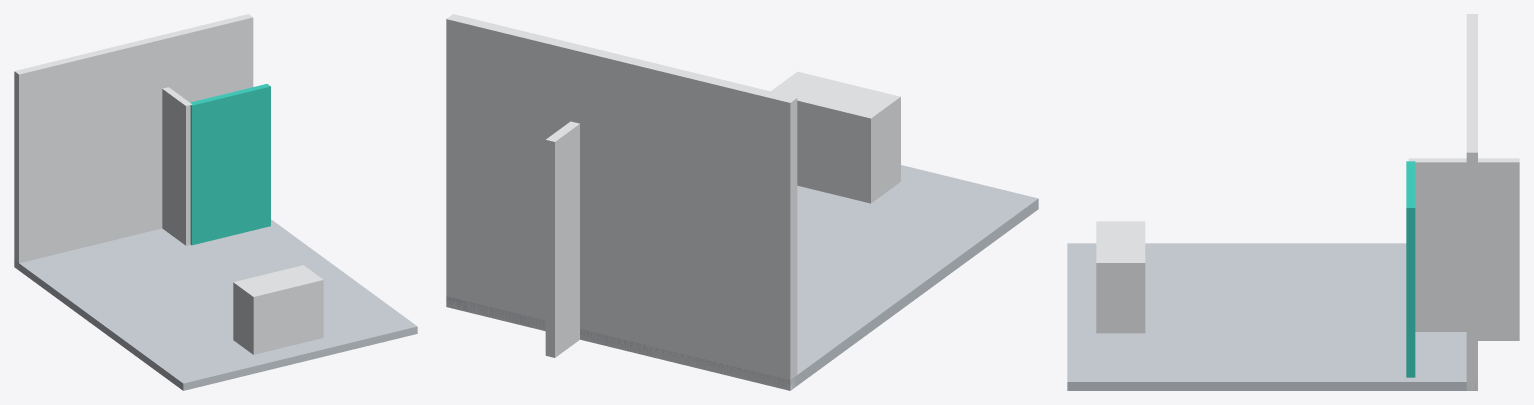
The picture shows the model from 3 angles, left to right: view 1: azimuth 30°, elevation 25°; view 2: azimuth 150°, elevation 25°; view 3: azimuth 270°, elevation 25°; orthographic projection. The views are drawn at different scales.
Visible parts, largest first — view 1: Exhibition Booth Concept; view 2: Exhibition Booth Concept; view 3: Exhibition Booth Concept.
Part boxes in pixels (bbox=[...]): Exhibition Booth Concept: bbox=[14, 14, 417, 390]; Exhibition Booth Concept: bbox=[446, 14, 1038, 390]; Exhibition Booth Concept: bbox=[1067, 14, 1519, 390].
Bounding box in the file's own units: 4 × 3.2 × 5.51.
